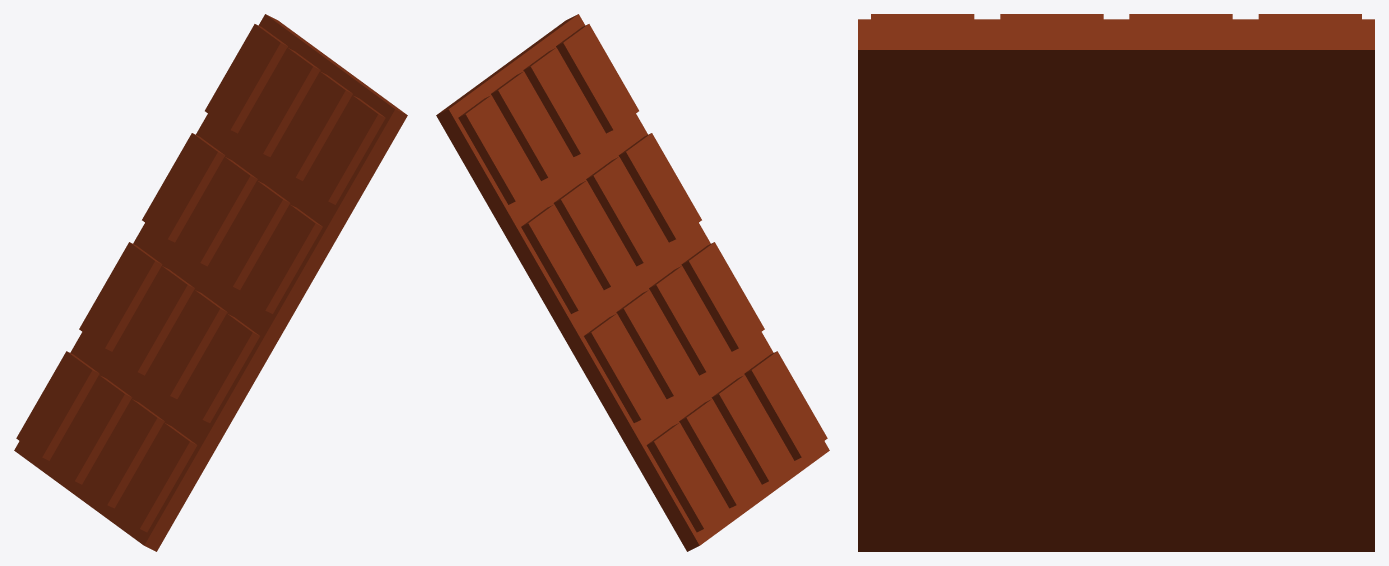
The model's file is ChocoRamp.fbx.
The picture shows the model from 3 angles, left to right: view 1: azimuth 30°, elevation 25°; view 2: azimuth 150°, elevation 25°; view 3: azimuth 270°, elevation 25°; orthographic projection. The views are drawn at different scales.
Parts seen in each view (by area): view 1: ChocoRamp; view 2: ChocoRamp; view 3: ChocoRamp.
Boxes of the visible parts, x1,y1,x2,y2 form: ChocoRamp: [14, 14, 407, 551]; ChocoRamp: [436, 14, 829, 551]; ChocoRamp: [858, 14, 1374, 551].
Size of the model in its own units: 667 by 926 by 568.
